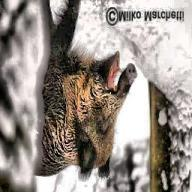boar: (35, 1, 138, 180)
